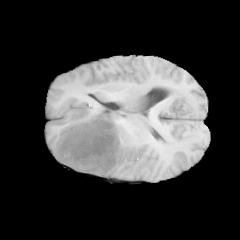glioma: (53, 109, 121, 175)
